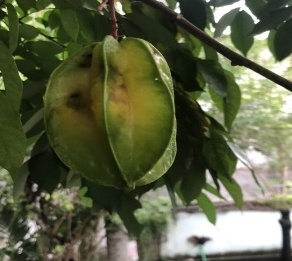Khe: (43, 36, 186, 189)
